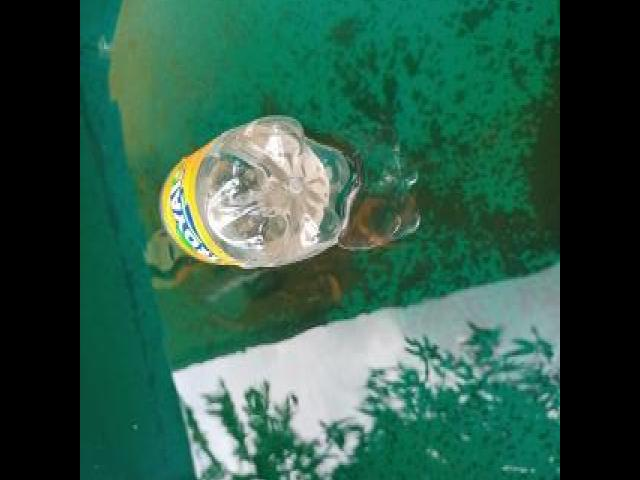Bottle: (160, 111, 360, 266)
